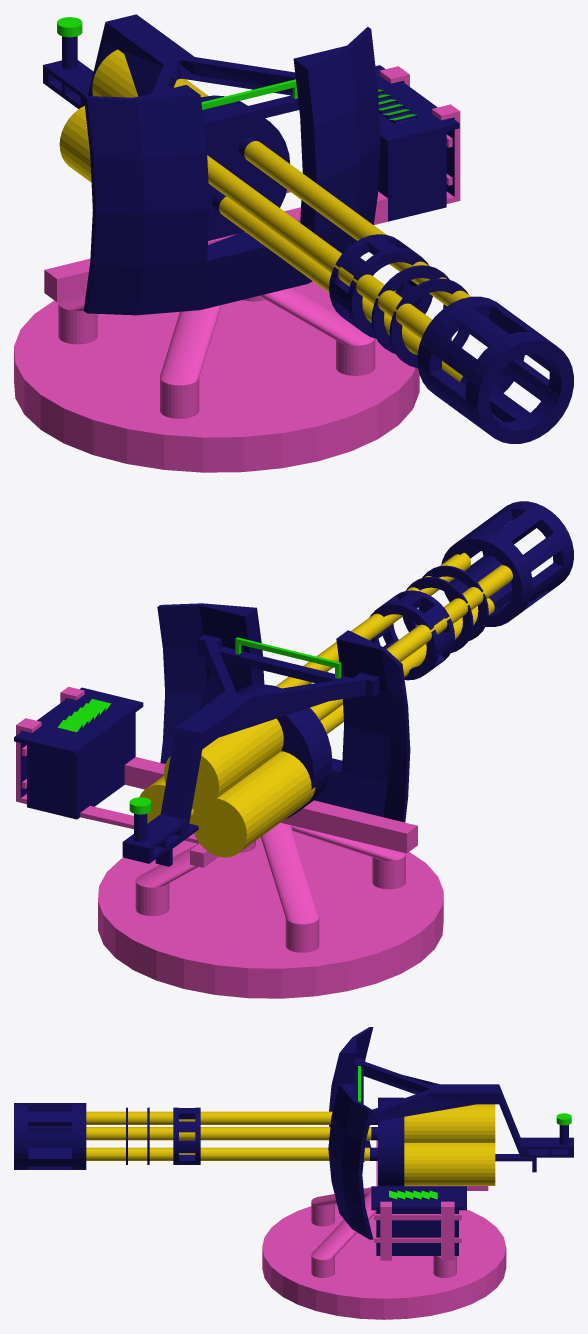
Rendered from minigunTurret.fbx.
The picture shows the model from 3 angles, top to bottom: view 1: azimuth 30°, elevation 25°; view 2: azimuth 150°, elevation 25°; view 3: azimuth 270°, elevation 25°; orthographic projection. The views are drawn at different scales.
Parts seen in each view (by area): view 1: Circle, Circle.001; view 2: Circle, Circle.001; view 3: Circle, Circle.001.
Part boxes in pixels (x1,y1,x2,y2): Circle: (14, 14, 460, 472); Circle.001: (201, 95, 573, 443); Circle: (14, 603, 443, 998); Circle.001: (236, 501, 573, 818); Circle: (262, 1027, 573, 1319); Circle.001: (14, 1097, 404, 1186).
Bounding box in the file's own units: 237 × 180 × 459.
